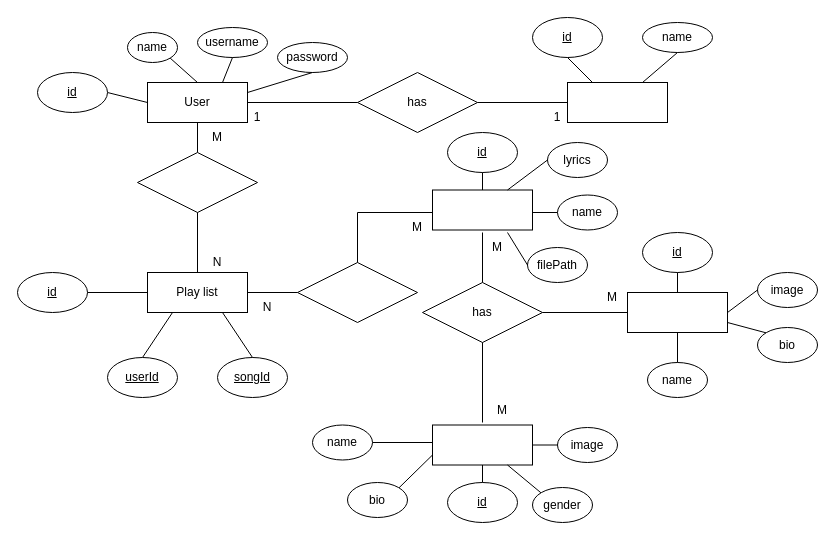
Image size: 835x540. Some labels were removed from this diagram. The shapes that lost their labels are listed below. From the top down, each one's centre as x and y in pixels, then its label:
At (x=617, y=102): "Role".
At (x=197, y=182): "creates".
At (x=482, y=209): "Songs".
At (x=357, y=292): "refers to".
At (x=677, y=312): "Genre".
At (x=482, y=444): "Artist".
